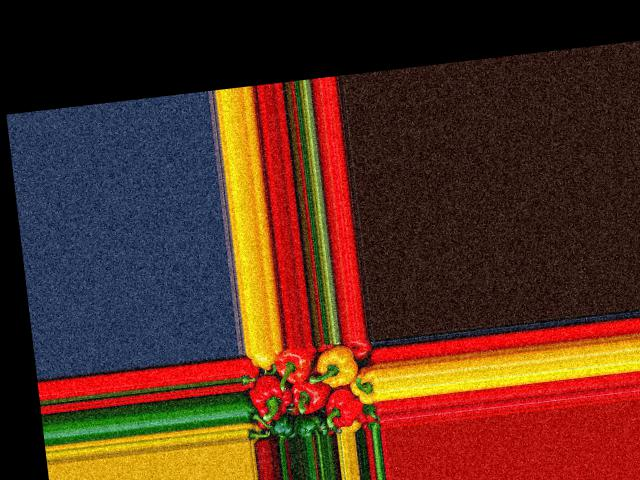bell_pepper: (250, 349, 276, 370)
